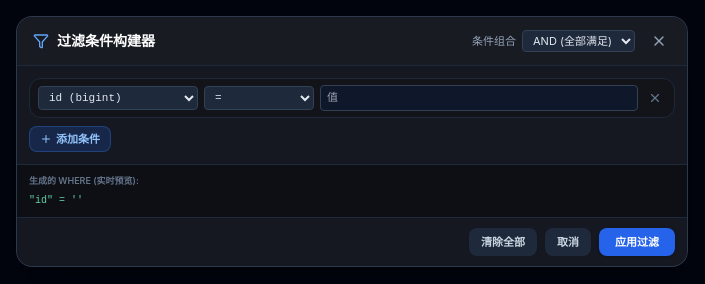
Test: WP10: FilterBuilder 组件 (列自动带出 + 类型感知) › IS NULL → 值输入框自动隐藏
The image size is (705, 284).
Select "status (text) — 订单状态" in the dropdown named "过滤列" at (118, 98), box [38,86,198,110]
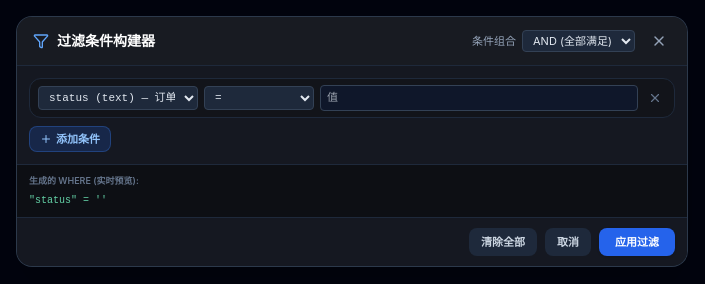
Select "IS NULL" in the dropdown named "操作符" at (259, 98), box [204,86,314,110]
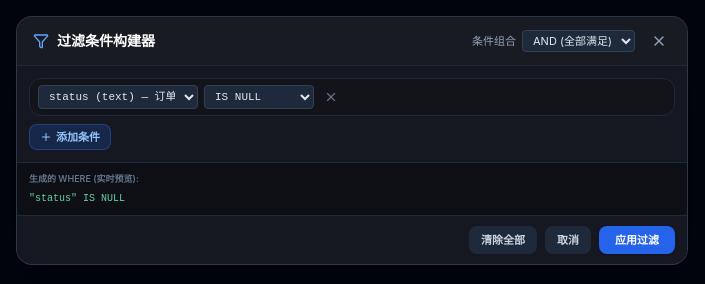
Now the field labelled "过滤值" is gone
Now the text with test id "fb-preview" reads "\"status\" IS NULL", box [29,193,125,204]
